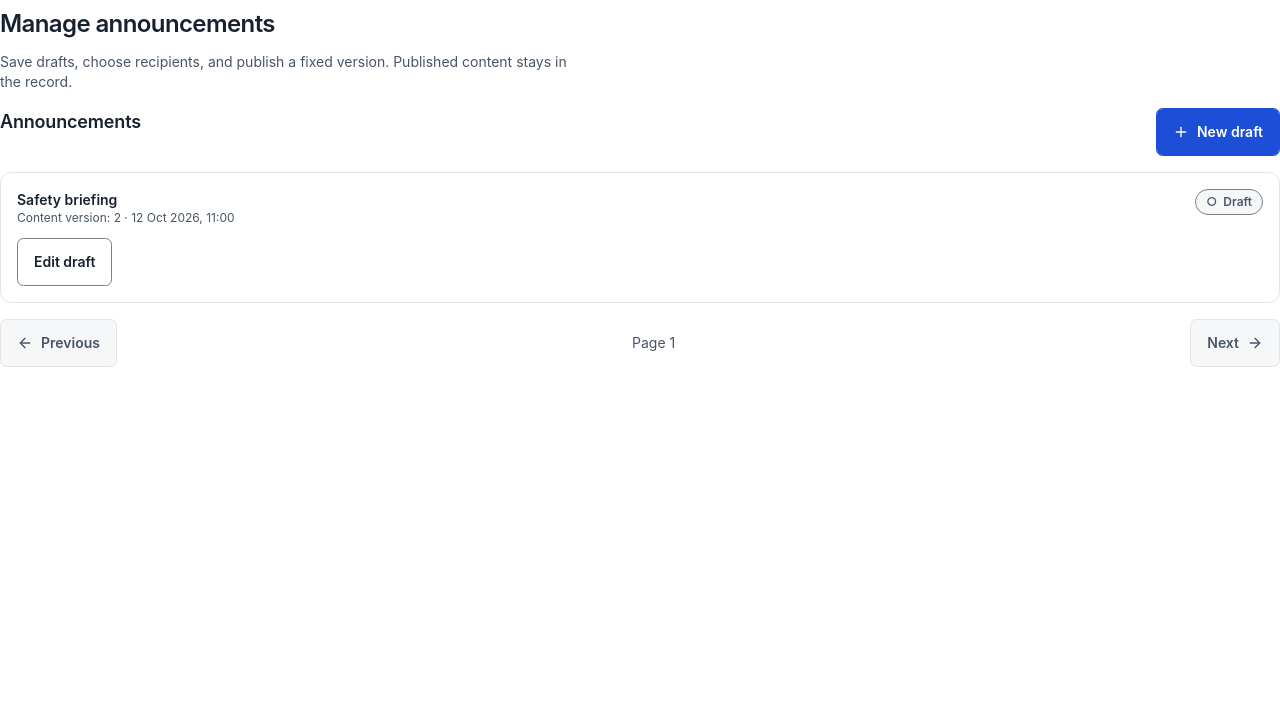
Test: retries an uncertain publish verbatim and closes the draft only after confirmation
The width and height of the screenshot is (1280, 712).
Click the button "Edit draft": (65, 262) [17,238,112,286]
(page scrolled)
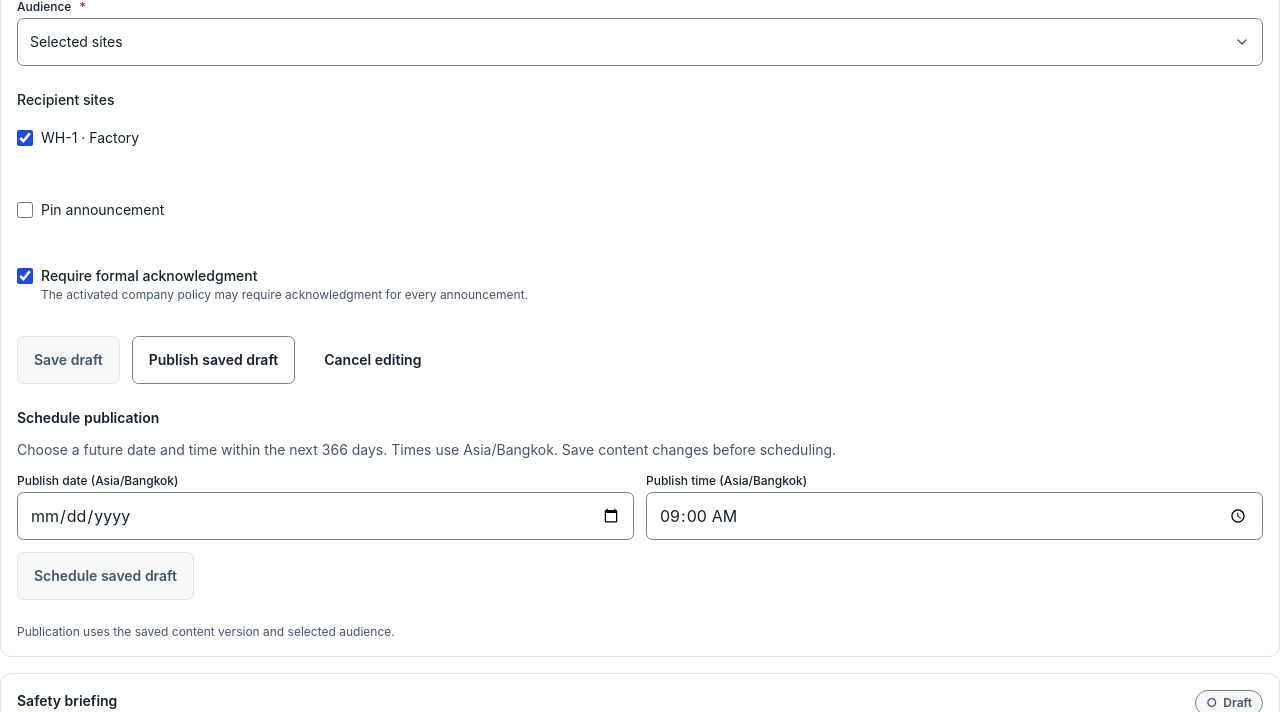
Click the button "Publish saved draft": (214, 360) [132,336,295,384]
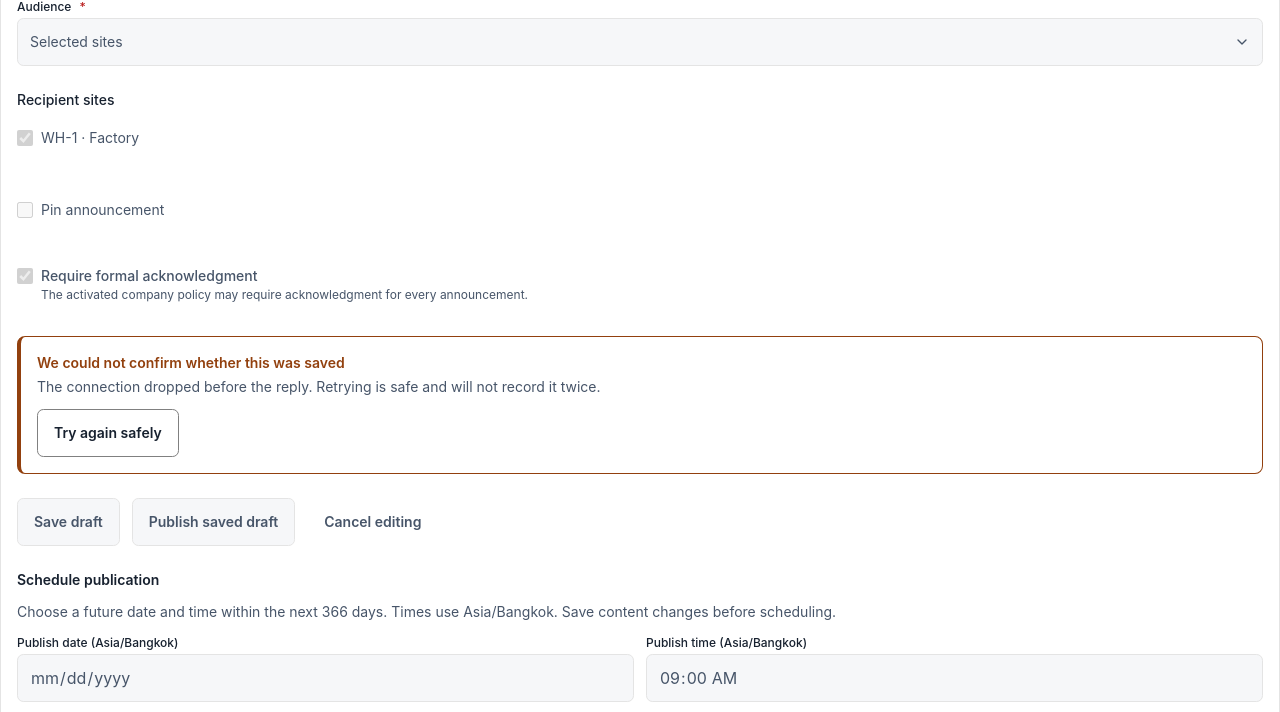
Now the message with test id "hr-write-uncertain" is shown, box [17,336,1263,474]
Click the button "Try again safely": (108, 433) [37,409,179,457]
(page scrolled)
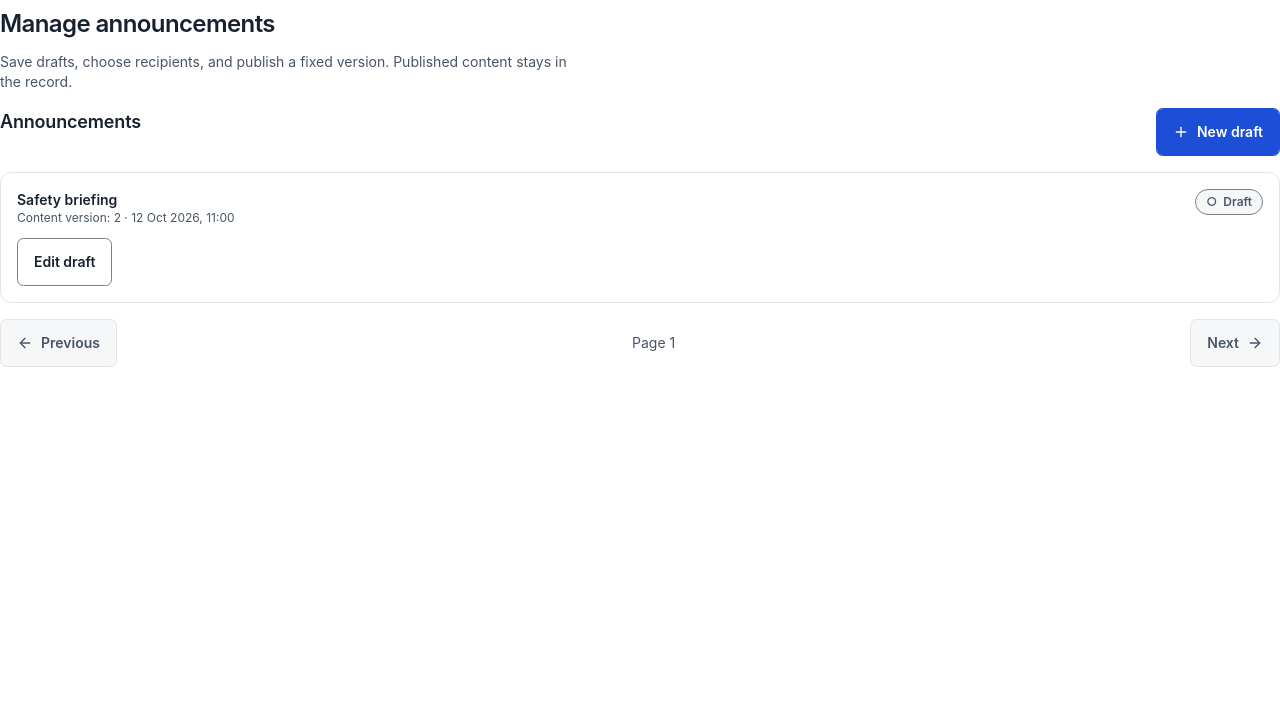
Now the button "Publish saved draft" is gone
